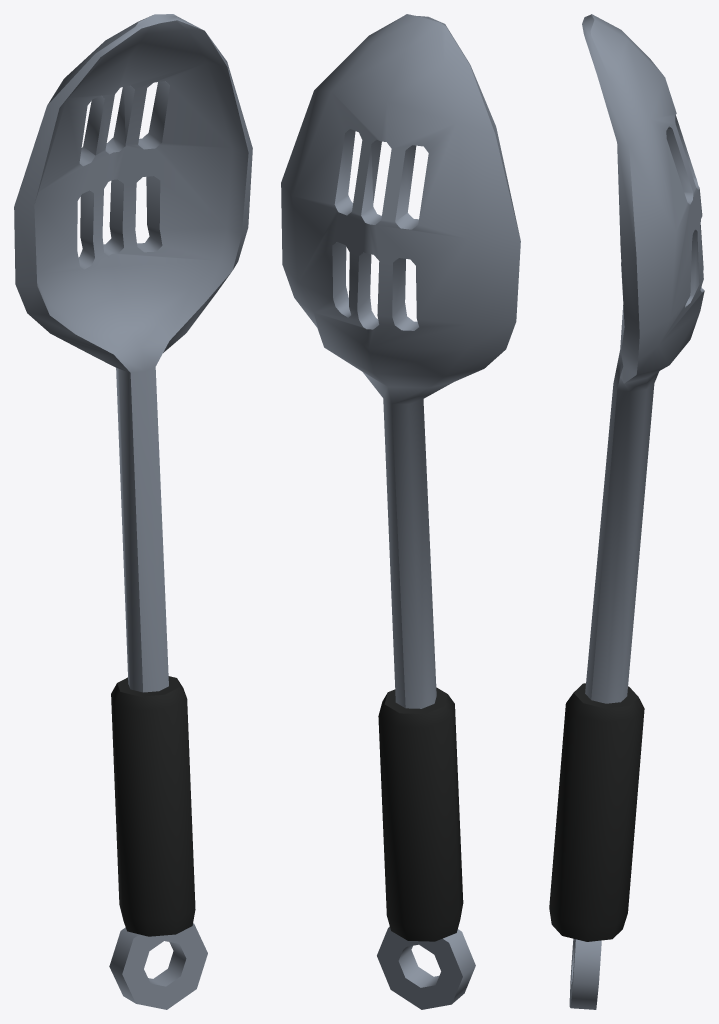
Rendered from Big Spoon-sq7hMbCwna.glb.
3 renders of one model, left to right at view 1: azimuth 30°, elevation 25°; view 2: azimuth 150°, elevation 25°; view 3: azimuth 270°, elevation 25°, orthographic.
Parts seen in each view (by area): view 1: cutensils_big_spoon_slotted_Cylinder.027; view 2: cutensils_big_spoon_slotted_Cylinder.027; view 3: cutensils_big_spoon_slotted_Cylinder.027.
Boxes of the visible parts, box(x1,y1,x2,y2) form: cutensils_big_spoon_slotted_Cylinder.027: box(14, 14, 252, 1009); cutensils_big_spoon_slotted_Cylinder.027: box(281, 14, 520, 1009); cutensils_big_spoon_slotted_Cylinder.027: box(549, 14, 704, 1009).
Size of the model in its own units: 1.95 by 7.71 by 1.1.
1 material, 1 textured.
